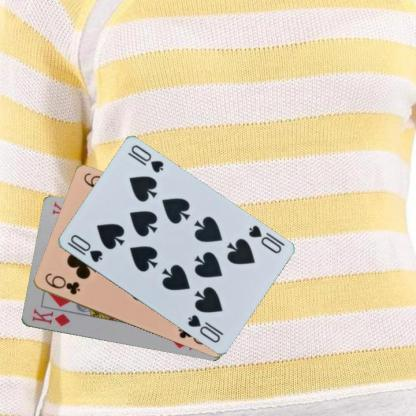10s: (64, 232, 104, 264), (245, 222, 282, 256)
6c: (42, 270, 82, 296)
Kd: (30, 306, 71, 328)
